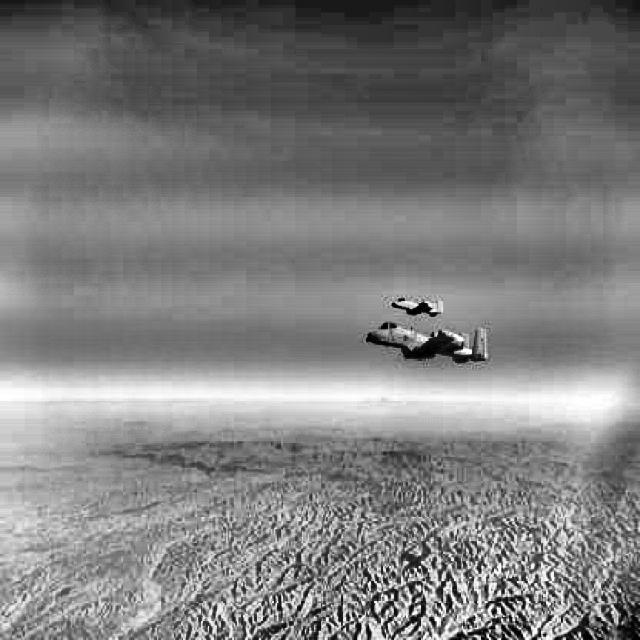A10: (366, 322, 488, 363), (391, 298, 444, 316)
